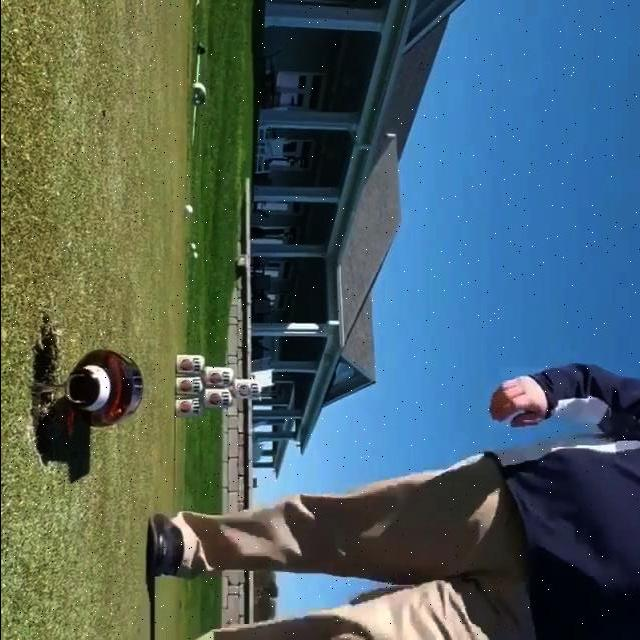golf ball: (185, 204, 193, 213), (191, 250, 197, 258), (190, 243, 194, 250)
